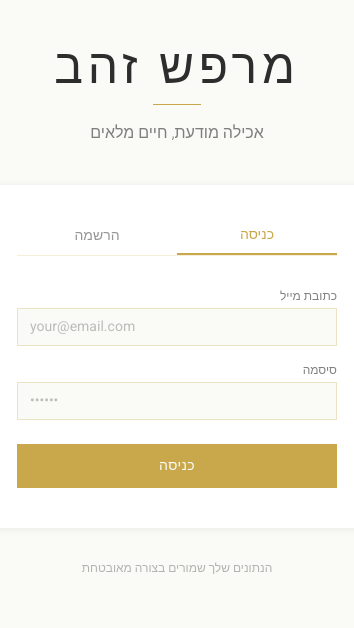
Test: Property 2: Preservation - UI and Toggle Functionality › PRESERVATION: Should clear error messages when toggling modes
The image size is (354, 628).
In the field labelled "כתובת מייל": (177, 327) [17,308,337,346], type "wrong@example.com"
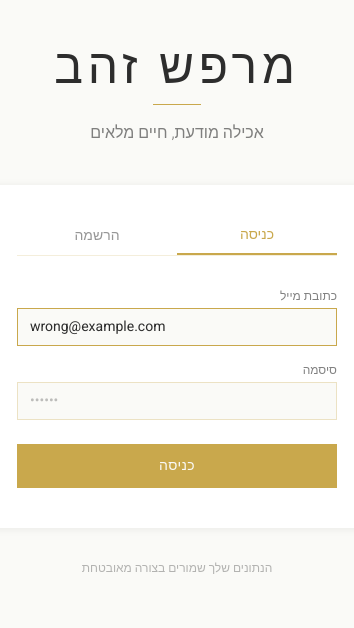
In the password field labelled "סיסמה": (177, 401) [17,382,337,420], type "wrongpassword"
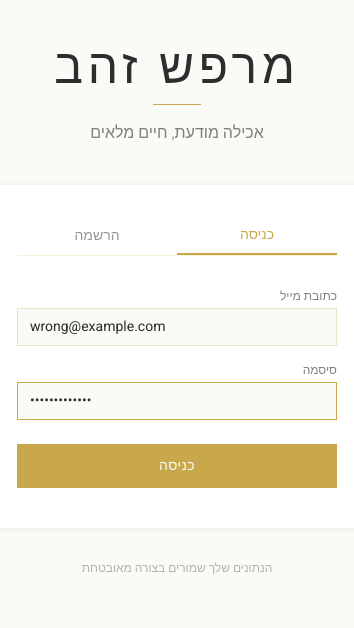
Click the button with aria-label "כניסה לחשבון": (177, 466) [17,444,337,488]
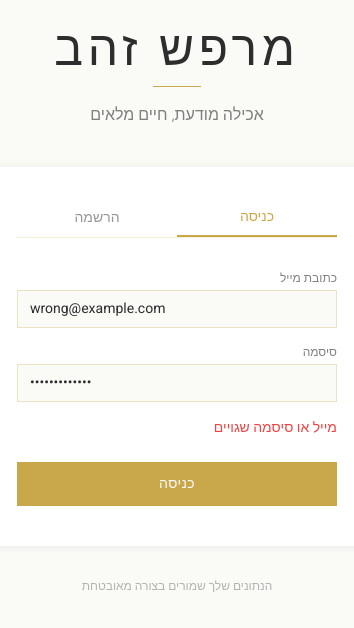
Check: the text "מייל או סיסמה שגויים" is shown, box [214,417,337,438]
Note: Switch to registration mode
Click the button "הרשמה": (97, 222) [17,207,177,237]
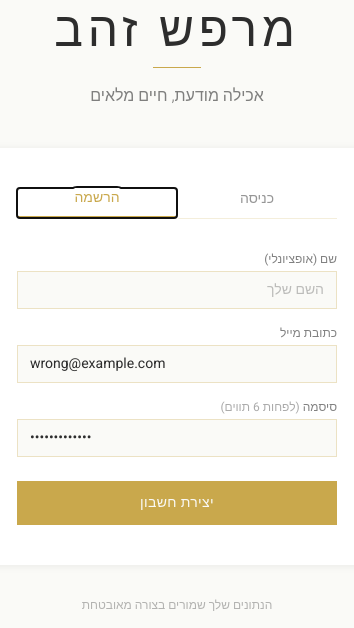
Check: the text "מייל או סיסמה שגויים" is gone
